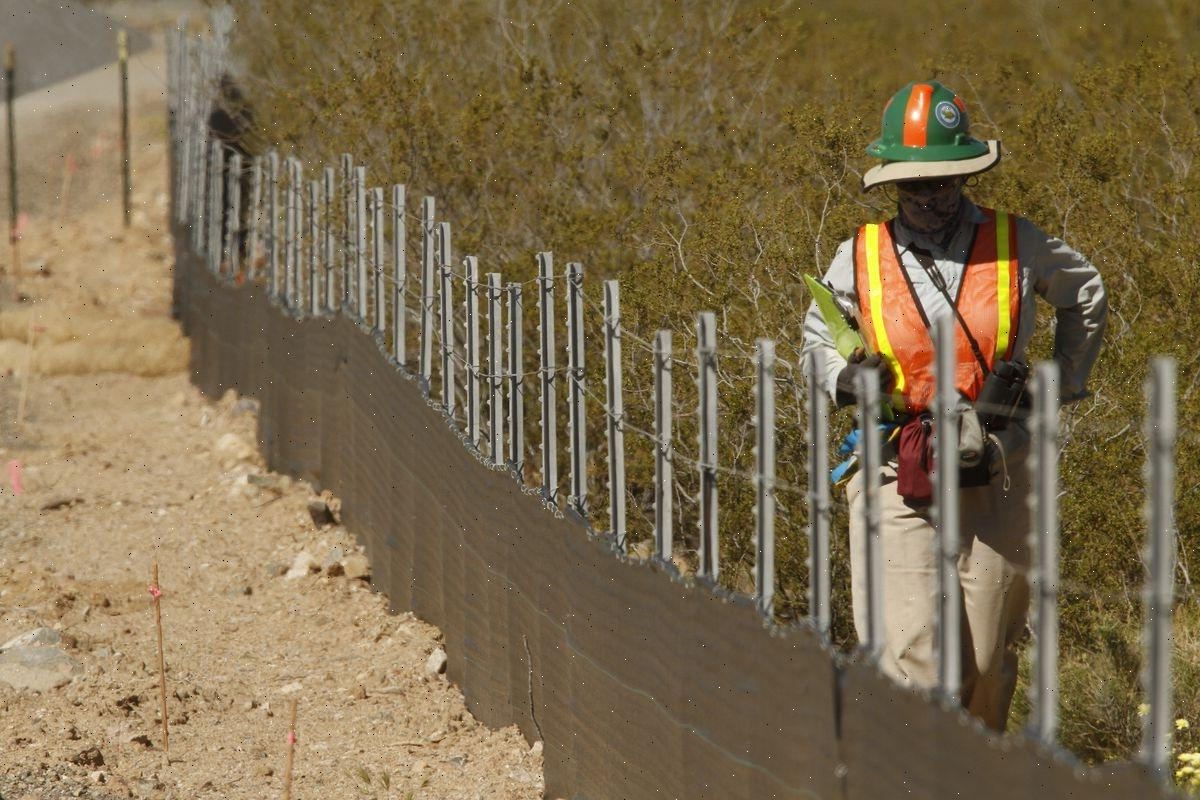helmet: (860, 82, 987, 164)
wear: (854, 224, 1036, 456)
